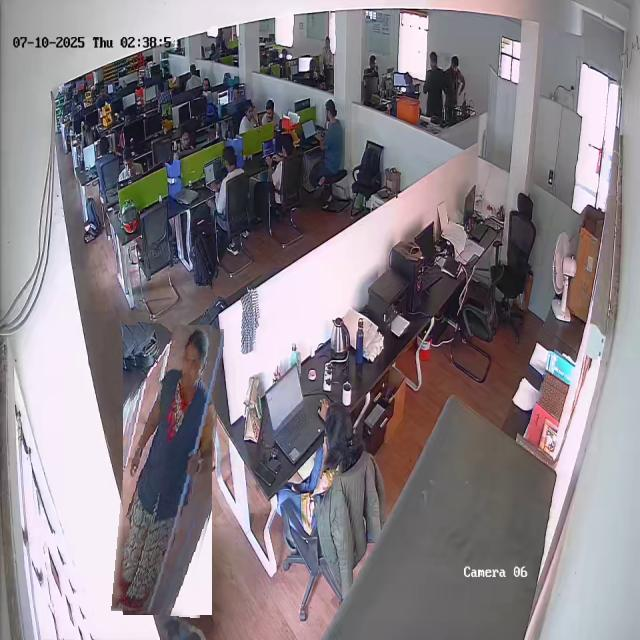person: (117, 324, 218, 616), (317, 99, 345, 174)
